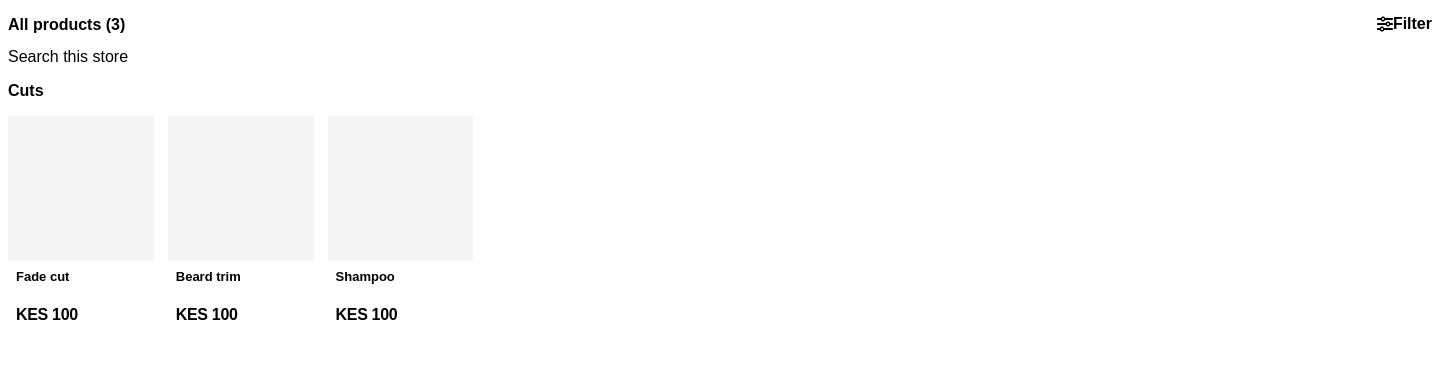
Test: Services on the store page › searches after a short pause and clears
expect the button "Fade cut KES 100" is shown: met, box 8,116 -> 154,332
Type "acme" into the search field with placeholder "Search this store".
click(720, 56); type("acme")  # box 8,48 -> 1432,66
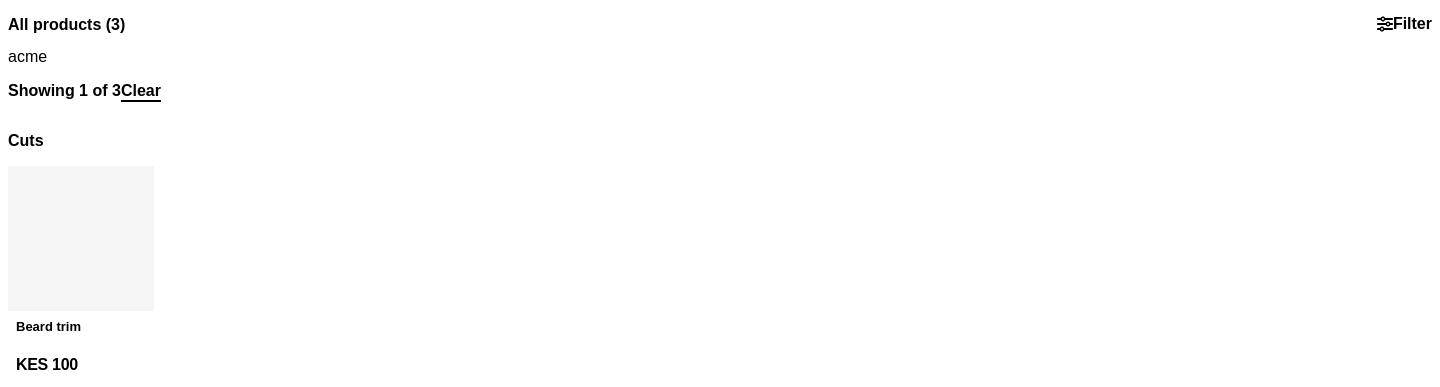
expect the text "Showing 1 of 3" is shown: met, box 8,82 -> 161,100
expect the button "Fade cut" is gone: met
Click the button "Clear".
click(141, 90)  # box 121,82 -> 161,100
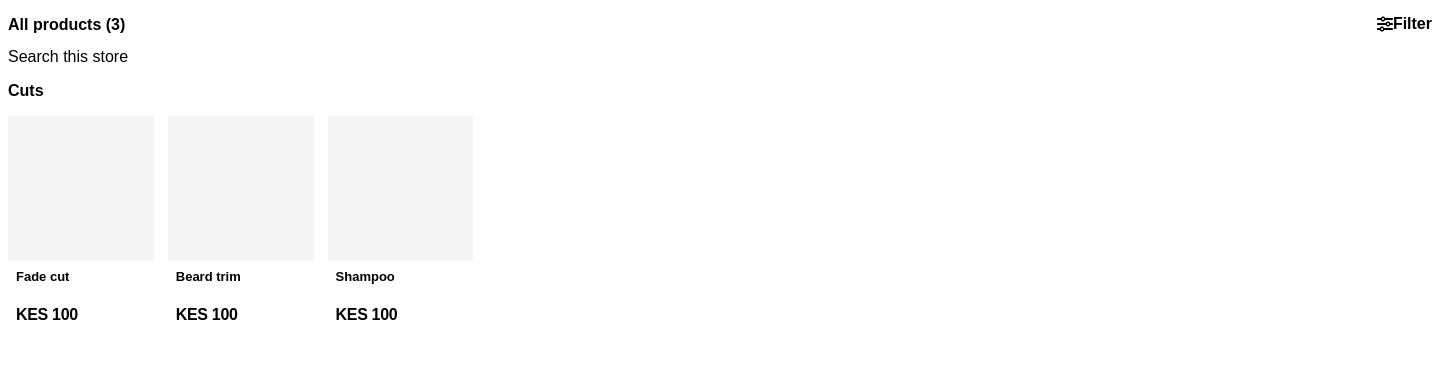
expect the text "Fade cut" is shown: met, box 16,269 -> 70,284
expect the text "Showing" is gone: met
